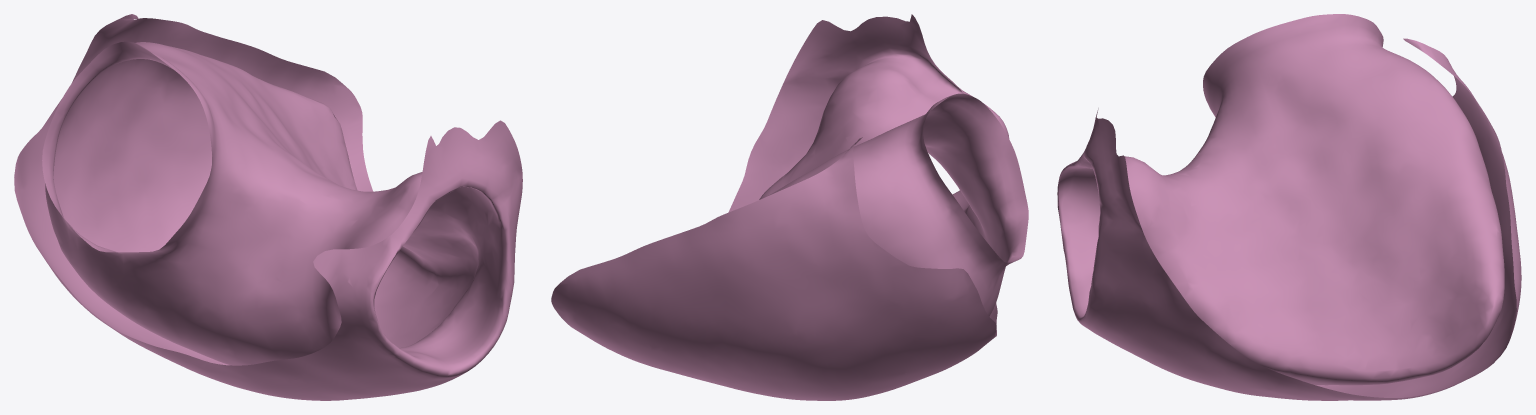
The picture shows the model from 3 angles, left to right: view 1: azimuth 30°, elevation 25°; view 2: azimuth 150°, elevation 25°; view 3: azimuth 270°, elevation 25°; orthographic projection. The views are drawn at different scales.
Visible parts, largest first — view 1: 右心室; view 2: 右心室; view 3: 右心室.
Part boxes in pixels (x1,y1,x2,y2): 右心室: (14,14,522,400); 右心室: (551,14,1028,400); 右心室: (1057,14,1521,400).
Bounding box in the file's own units: 0.1216 × 0.0987 × 0.1362.
